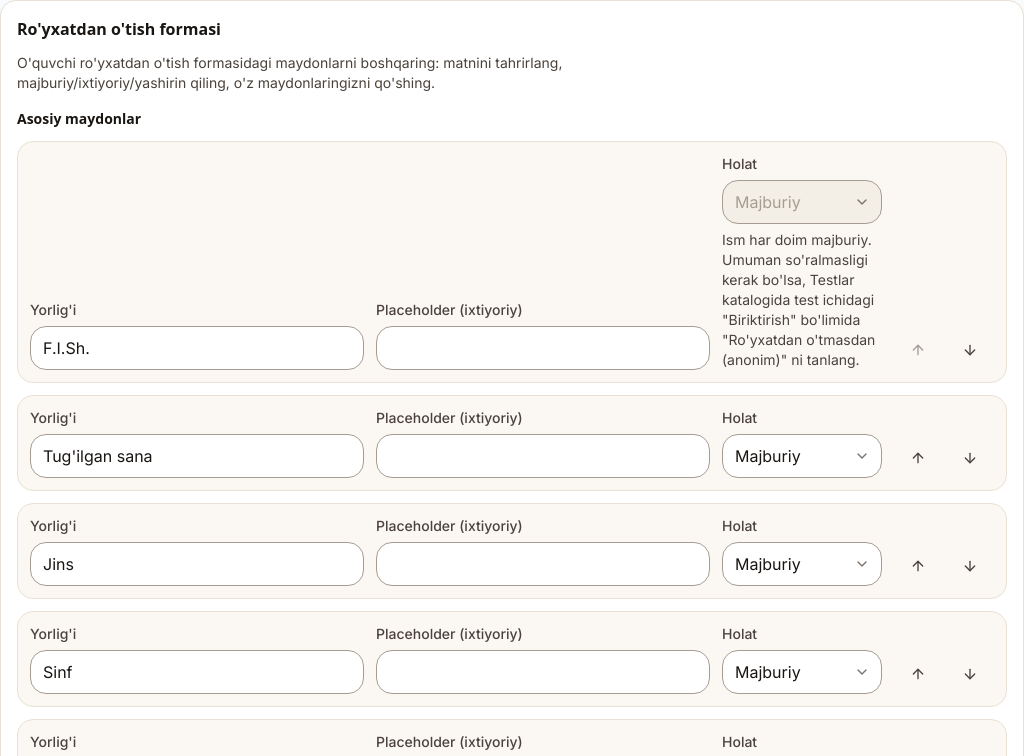
Test: RegistrationFormCard › jonli oldindan ko'rish yorliq o'zgarishiga darhol mos keladi
Check: the 1st field showing "F.I.Sh." is shown, box 30,326 -> 364,370
Replace the text in the 3rd field labelled "Yorlig'i" with "Jinsi" at (197, 564), box 30,542 -> 364,586
(page scrolled)
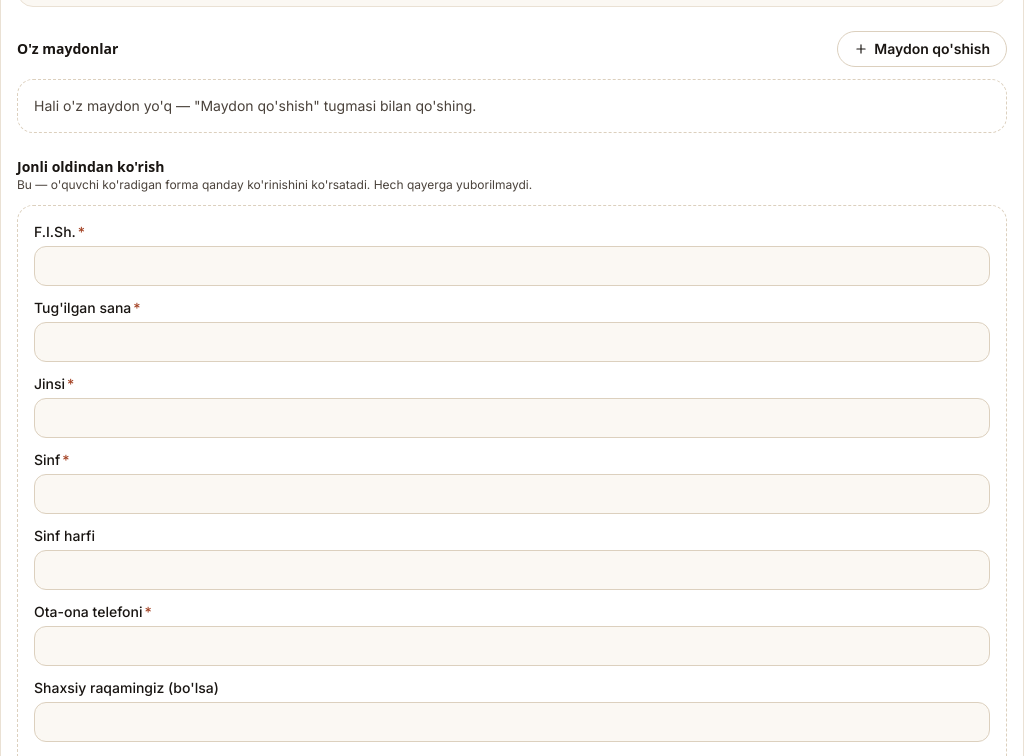
Check: the text "Jonli oldindan ko'rish" is shown, box 17,157 -> 164,176
Check: the text "Jinsi" is shown, box 34,375 -> 65,392
